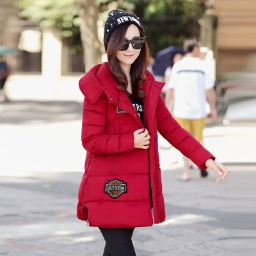face: (99, 7, 154, 94)
